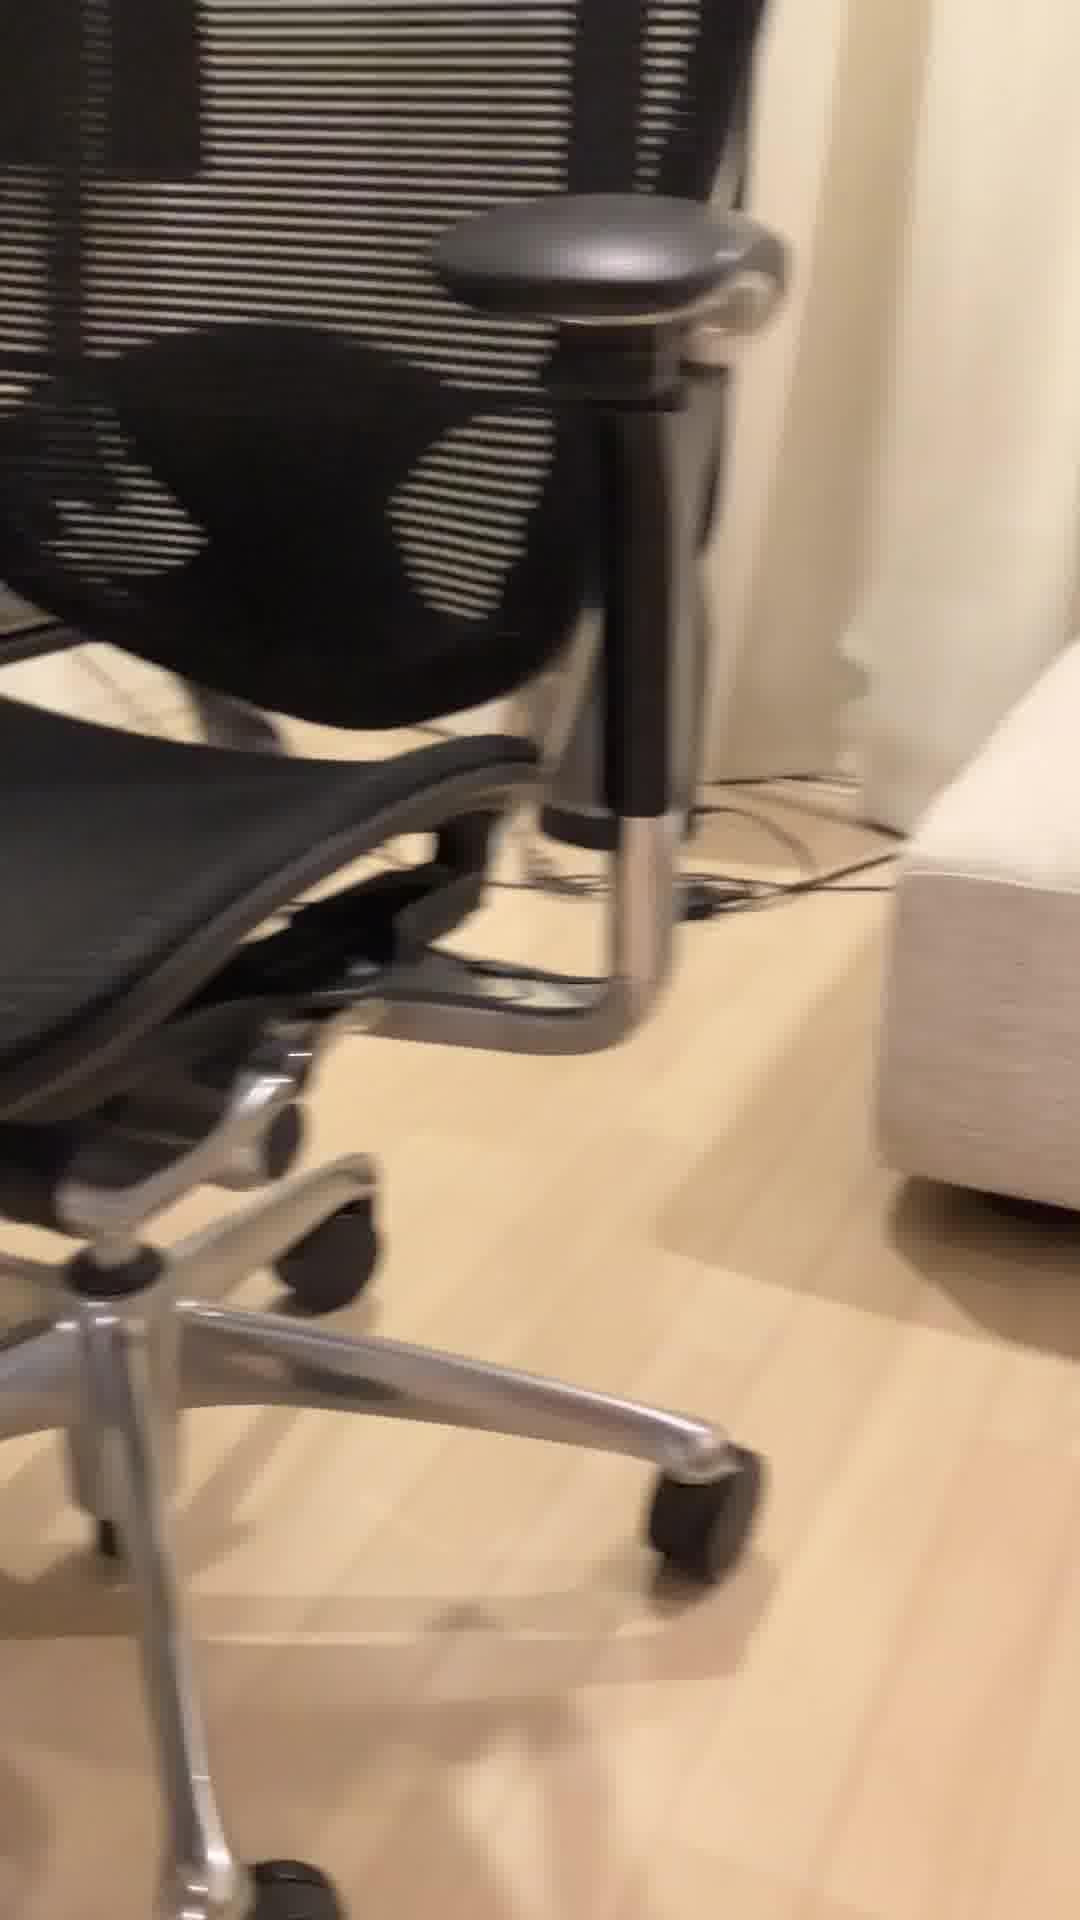okamura-contessa: (0, 0, 800, 1920)
